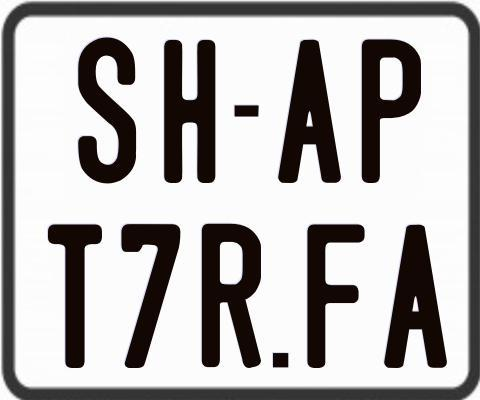7: (121, 224, 181, 372)
A: (383, 225, 450, 371), (277, 40, 344, 184)
F: (307, 222, 368, 372)
H: (163, 38, 214, 185)
P: (361, 36, 424, 182)
R: (199, 221, 264, 365)
S: (75, 36, 137, 186)
T: (45, 221, 102, 370)
